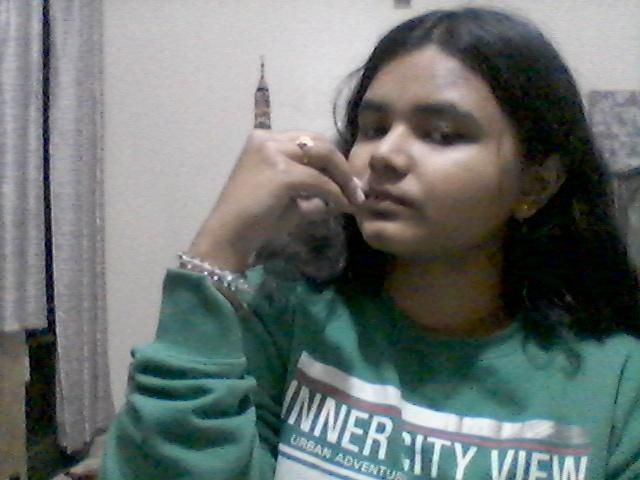eat: (148, 121, 375, 294)
